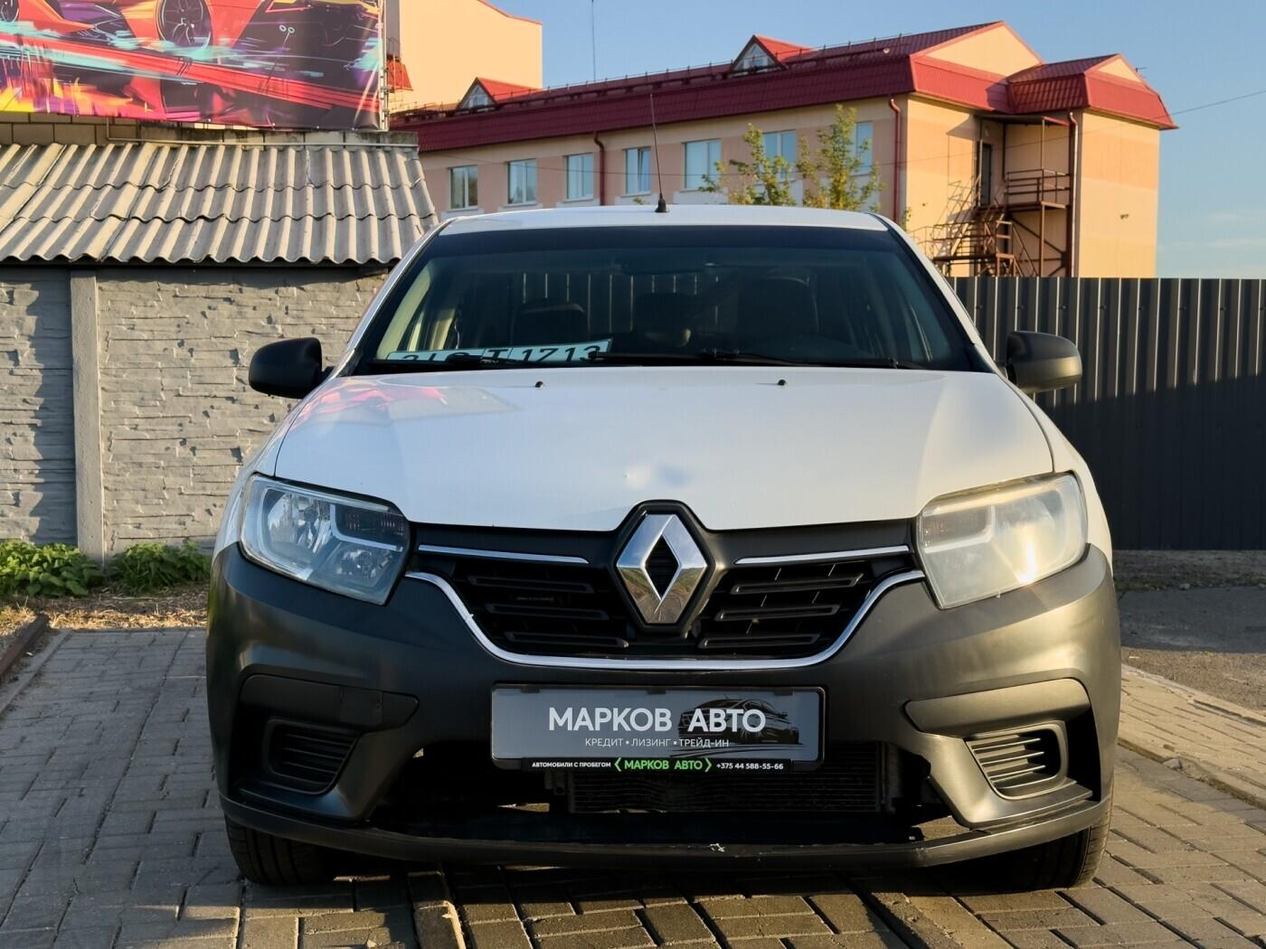Logan_2018: (194, 195, 1129, 892)
